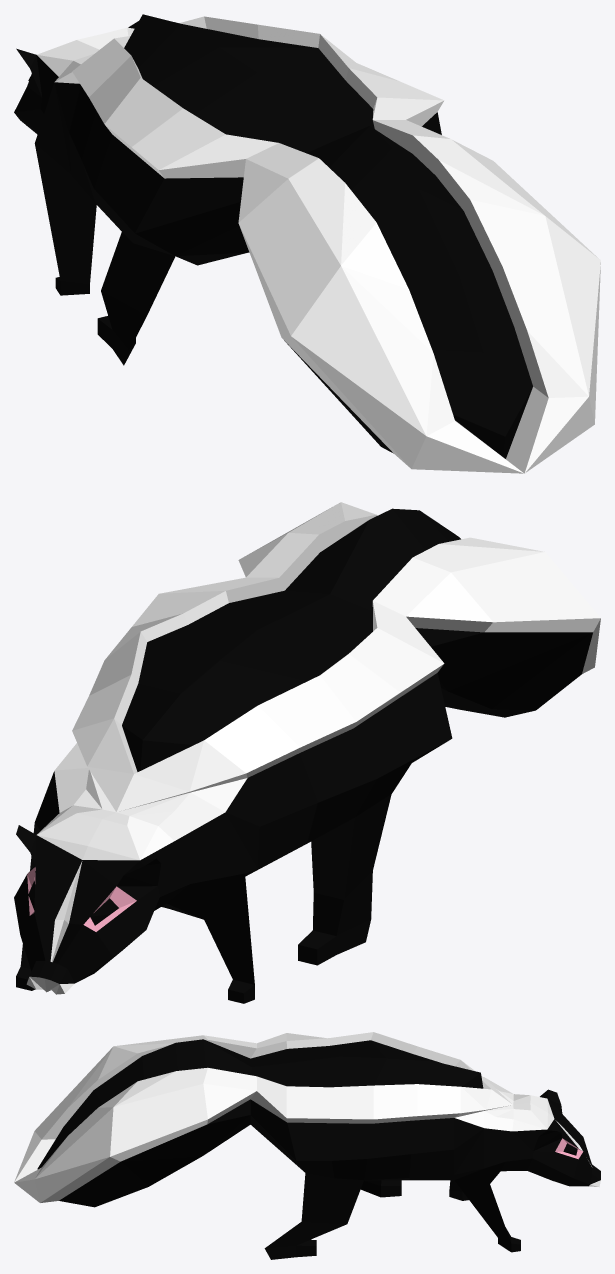
Rendered from moufsaka2.obj.
The picture shows the model from 3 angles, top to bottom: view 1: azimuth 30°, elevation 25°; view 2: azimuth 150°, elevation 25°; view 3: azimuth 270°, elevation 25°; orthographic projection. The views are drawn at different scales.
Visible parts, largest first — view 1: Muffa_Cube.002_Muffa_Cube.003, Muffa_Cube.001; view 2: Muffa_Cube.001, Muffa_Cube.002_Muffa_Cube.003; view 3: Muffa_Cube.001, Muffa_Cube.002_Muffa_Cube.003.
Boxes of the visible parts, <box> form: Muffa_Cube.002_Muffa_Cube.003: <box>238,120,600,473</box>; Muffa_Cube.001: <box>14,14,444,365</box>; Muffa_Cube.001: <box>14,577,452,1003</box>; Muffa_Cube.002_Muffa_Cube.003: <box>238,502,600,717</box>; Muffa_Cube.001: <box>250,1032,600,1259</box>; Muffa_Cube.002_Muffa_Cube.003: <box>14,1035,256,1207</box>.
Bounding box in the file's own units: 1.84 × 1.69 × 4.87.
4 materials, 4 textured.
